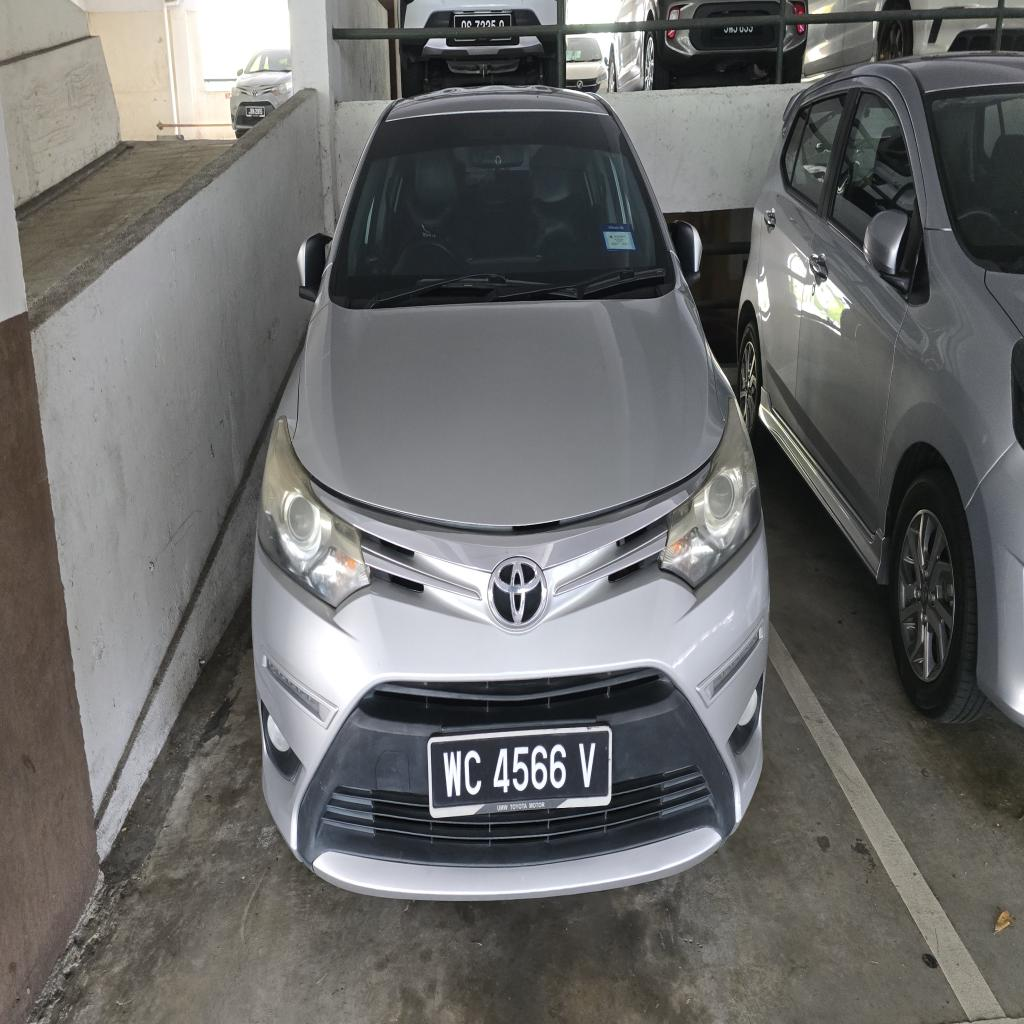car: (254, 87, 768, 898)
car plate: (428, 726, 611, 817)
